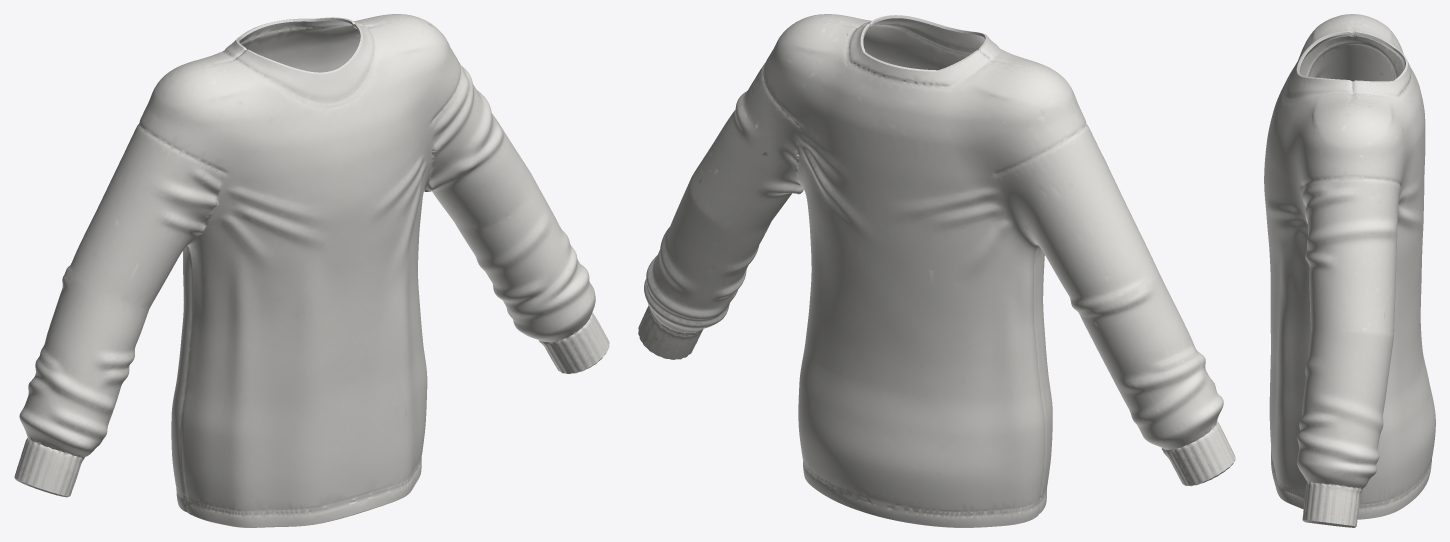
The model's file is 11_camiseta_manga_larga_pbr.glb.
3 renders of one model, left to right at view 1: azimuth 30°, elevation 25°; view 2: azimuth 150°, elevation 25°; view 3: azimuth 270°, elevation 25°, orthographic. The views are drawn at different scales.
Parts seen in each view (by area): view 1: Camiseta PBR; view 2: Camiseta PBR; view 3: Camiseta PBR.
Boxes of the visible parts, box(x1,y1,x2,y2) form: Camiseta PBR: box(14, 14, 609, 527); Camiseta PBR: box(638, 14, 1235, 527); Camiseta PBR: box(1264, 14, 1435, 527).
Size of the model in its own units: 0.9756 by 0.7171 by 0.2689.
1 material, 1 textured.
